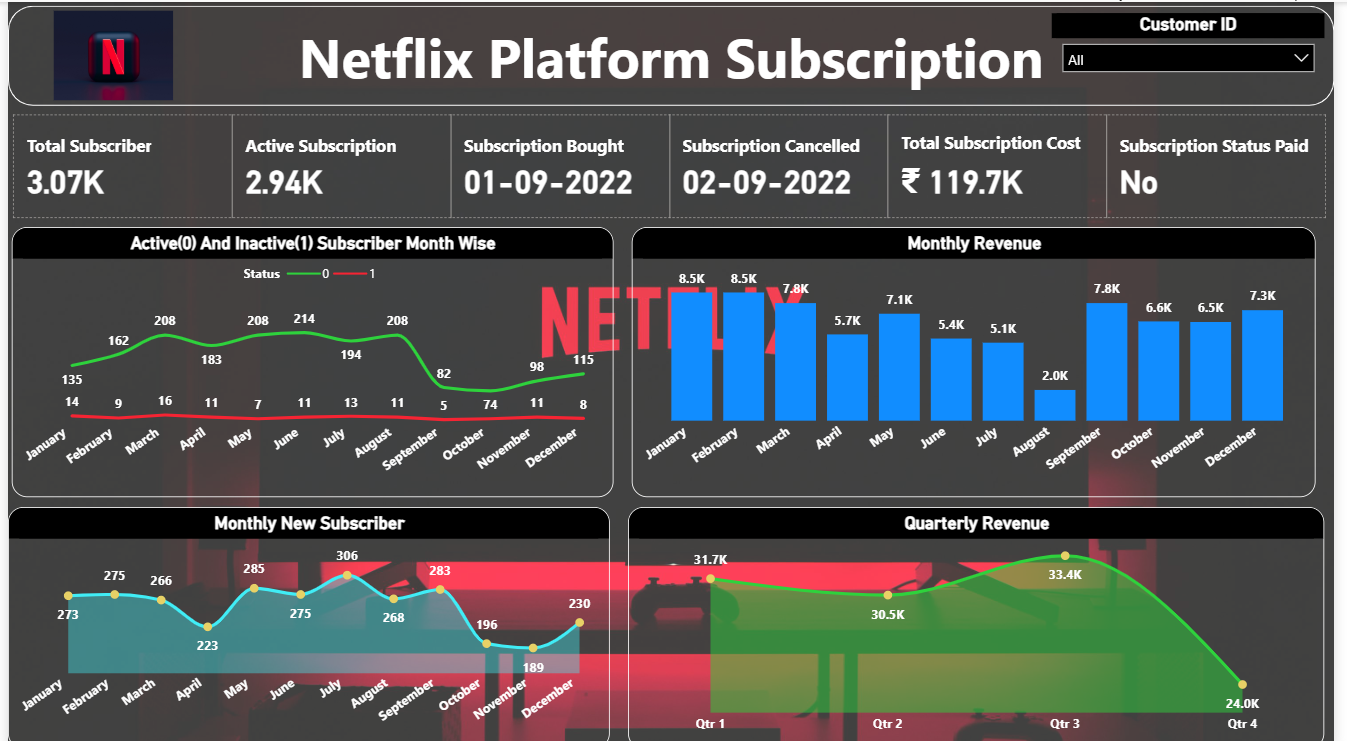

This screenshot's page, from the dashboard's own definition file:
{"tool":"powerbi","page":{"name":"Page 1","canvas":[1280,720],"ordinal":0},"visuals":[{"type":"shape","box":[0,3.6,1280,96.5],"z":0},{"type":"image","box":[26.5,3.6,150.8,96.5],"z":2},{"type":"cardVisual","fields":{"Data":["Subscription Cohort Analysis Data.Total Subscriber","Subscription Cohort Analysis Data.Active Subscription","Min(Subscription Cohort Analysis Data.created_date)","Min(Subscription Cohort Analysis Data.canceled_date)","Sum(Subscription Cohort Analysis Data.subscription_cost)","Min(Subscription Cohort Analysis Data.was_subscription_paid)"]},"box":[0,103.8,1280,111],"z":3},{"type":"lineChart","title":"Monthly New Subscriber","fields":{"Category":["Subscription Cohort Analysis Data.created_date.Variation.Date Hierarchy.Month"],"Y":["CountNonNull(Subscription Cohort Analysis Data.created_date)"]},"box":[0,487.1,580.4,233.3],"z":4},{"type":"lineChart","title":"Active(0) And Inactive(1) Subscriber Month Wise","fields":{"Category":["Subscription Cohort Analysis Data.canceled_date.Variation.Date Hierarchy.Month"],"Y":["CountNonNull(Subscription Cohort Analysis Data.Status)"],"Series":["Subscription Cohort Analysis Data.Status"]},"box":[4.1,216.8,580.4,260.7],"z":5},{"type":"columnChart","title":"Monthly Revenue","fields":{"Category":["Subscription Cohort Analysis Data.created_date.Variation.Date Hierarchy.Month"],"Y":["Sum(Subscription Cohort Analysis Data.subscription_cost)"]},"box":[602.4,216.8,660,260.7],"z":6},{"type":"lineChart","title":" Quarterly Revenue","fields":{"Y":["Sum(Subscription Cohort Analysis Data.subscription_cost)"],"Category":["Subscription Cohort Analysis Data.created_date.Variation.Date Hierarchy.Quarter"]},"box":[598.3,487.1,672.4,233.3],"z":7},{"type":"slicer","title":"Customer ID","fields":{"Values":["Subscription Cohort Analysis Data.customer_id"]},"box":[1007.2,11,263.5,83.7],"z":9}]}

Visuals, with their boxes in screenshot pixels (x1, y1, x2, y2), scaled from the page's 1280x720 canvas onto the 1347x741 screenshot:
shape: x1=0, y1=4, x2=1346, y2=103
image: x1=28, y1=4, x2=187, y2=103
cardVisual - Subscription Cohort Analysis Data.Total Subscriber x Subscription Cohort Analysis Data.Active Subscription: x1=0, y1=107, x2=1346, y2=221
"Monthly New Subscriber" lineChart: x1=0, y1=501, x2=611, y2=740
"Active(0) And Inactive(1) Subscriber Month Wise" lineChart: x1=4, y1=223, x2=615, y2=491
"Monthly Revenue" columnChart: x1=634, y1=223, x2=1328, y2=491
" Quarterly Revenue" lineChart: x1=630, y1=501, x2=1337, y2=740
"Customer ID" slicer: x1=1060, y1=11, x2=1337, y2=97
